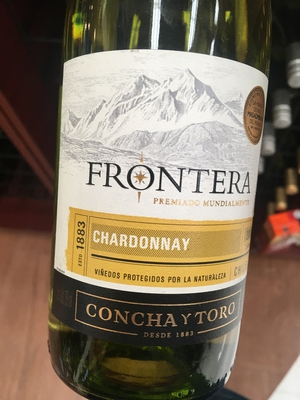frontera chardonnay: (45, 9, 272, 400)
